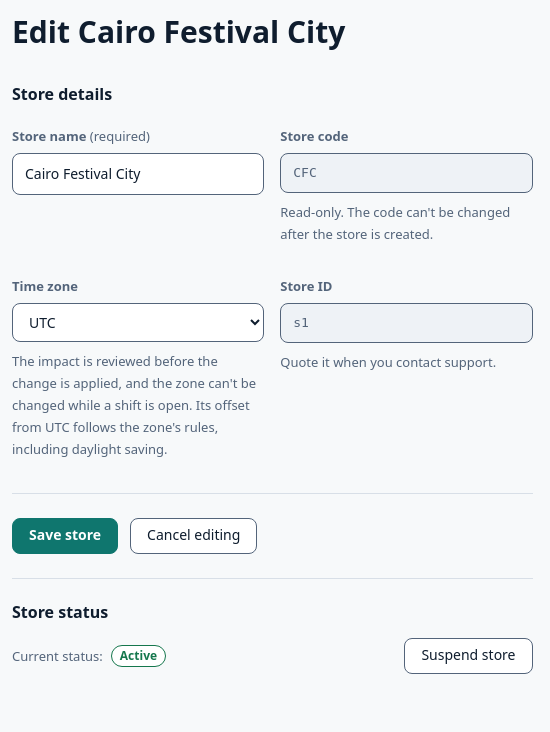
Test: StoreForm edit: changing the time zone › choosing the current zone again discards the preview and the review
Step 1. Select "Cairo (Africa/Cairo)" in the dropdown → x=138, y=323, box [12,303,264,342]
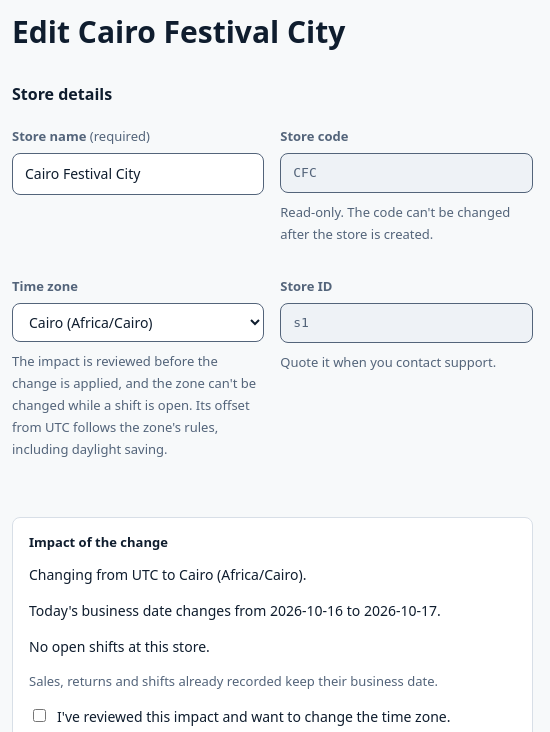
Step 2. Click the checkbox labelled "I've reviewed this impact and want to change the time zone." → x=40, y=715, box [33,709,46,722]
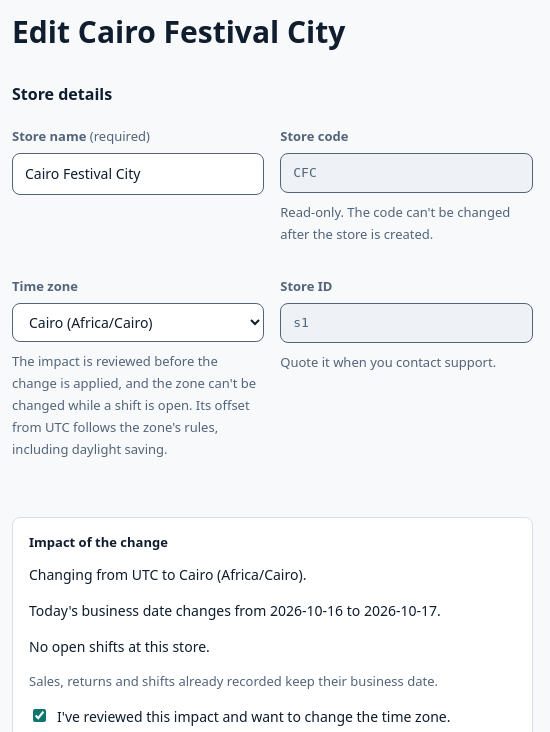
Step 3. Select "UTC" in the dropdown → x=138, y=323, box [12,303,264,342]
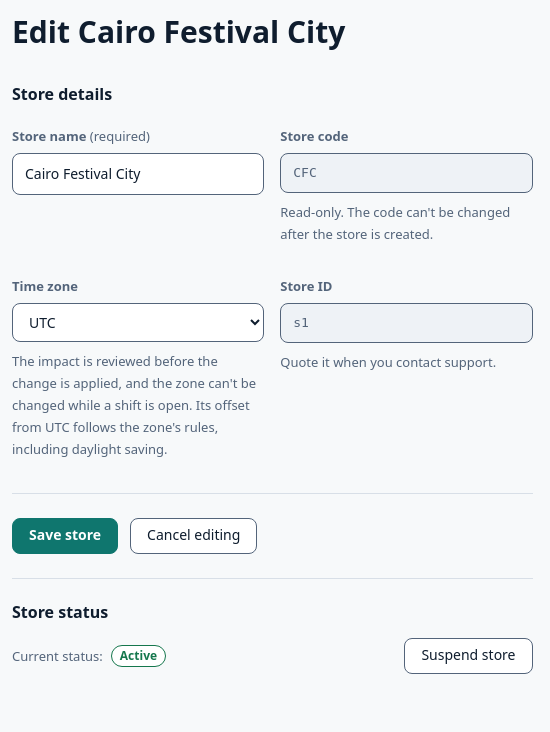
Check: the heading "Impact of the change" is gone
Check: the checkbox is gone
Step 4. Select "Cairo (Africa/Cairo)" in the dropdown → x=138, y=323, box [12,303,264,342]
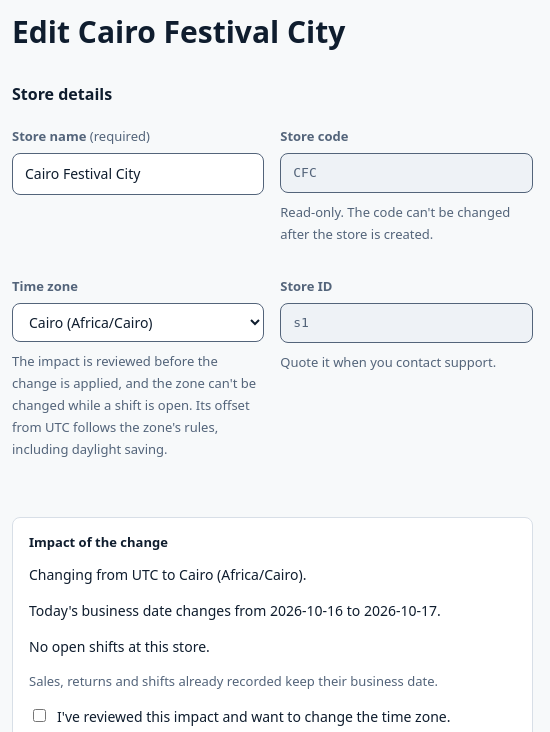
Check: the checkbox labelled "I've reviewed this impact and want to change the time zone." is not checked, box [33,709,46,722]
